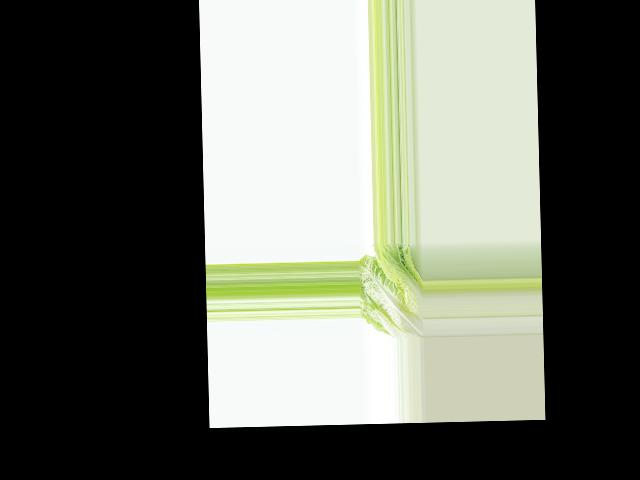lettuce: (359, 241, 424, 339)
